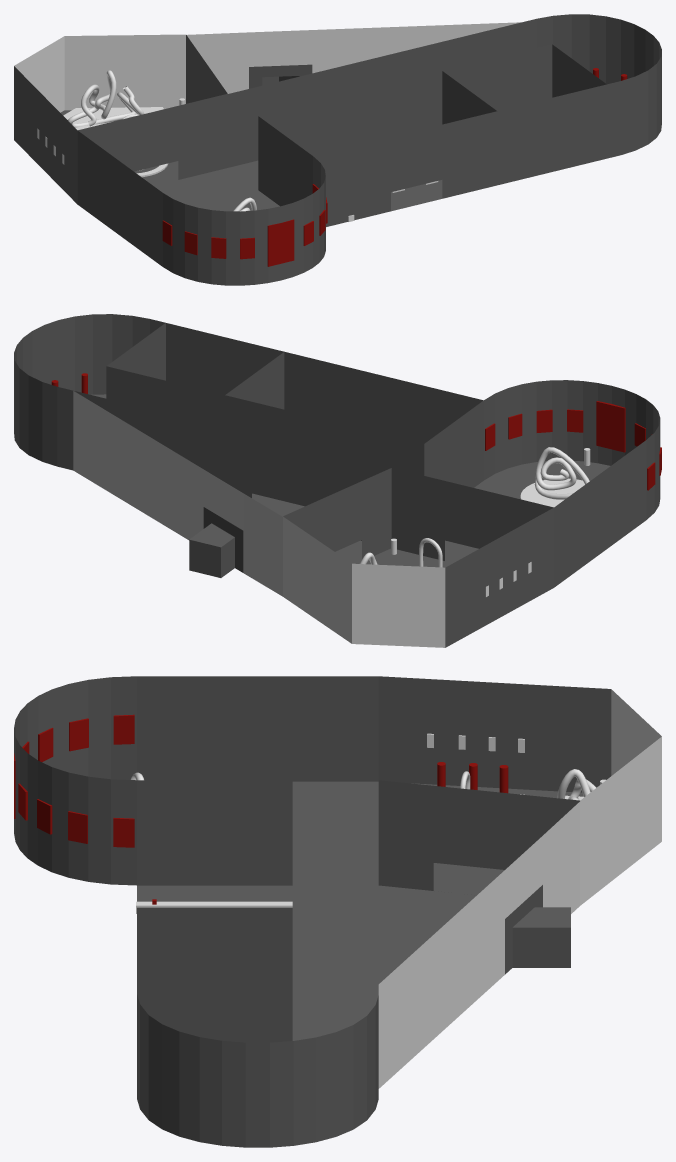
Rendered from room layout reference WITH FIXED NORMALS AND NO DOORS.fbx.
3 renders of one model, top to bottom at view 1: azimuth 30°, elevation 25°; view 2: azimuth 150°, elevation 25°; view 3: azimuth 270°, elevation 25°, orthographic. The views are drawn at different scales.
Visible parts, largest first — view 1: Cafe + Gift Shop Walls, EH2 Walls, EH1 Walls, Lobby Walls, EH3 Walls, Window, Lobby Window, EH2 Floor, Funky Sculpt, BIG EH2 Painting, Cafe Floor, Funky Sculpt Base (+2 smaller); view 2: Cafe + Gift Shop Walls, EH1 Walls, EH2 Walls, Lobby Window, Lobby Walls, Window, EH3 Walls, EH2 Floor, EH2 Centerpiece, BIG EH2 Painting, EH1 Floor, EH2 Centerpiece Base (+1 smaller); view 3: EH2 Walls, EH1 Walls, EH3 Walls, Cafe + Gift Shop Walls, Lobby Window, Hall Floor, Window, EH2 Floor, Lobby Floor, Lobby Walls, Cafe Floor, EH1 Floor (+2 smaller).
Boxes of the visible parts, left/top/right/bottom form: Cafe + Gift Shop Walls: left=258, top=44, right=606, bottom=226; EH2 Walls: left=77, top=116, right=325, bottom=285; EH1 Walls: left=14, top=35, right=227, bottom=204; Lobby Walls: left=227, top=22, right=521, bottom=167; EH3 Walls: left=522, top=14, right=661, bottom=158; Window: left=14, top=34, right=185, bottom=112; Lobby Window: left=187, top=22, right=520, bottom=93; EH2 Floor: left=154, top=168, right=279, bottom=211; Funky Sculpt: left=68, top=70, right=144, bottom=127; BIG EH2 Painting: left=267, top=219, right=294, bottom=266; Cafe Floor: left=391, top=180, right=442, bottom=211; Funky Sculpt Base: left=63, top=107, right=163, bottom=130; Cafe + Gift Shop Walls: left=106, top=323, right=483, bottom=475; EH1 Walls: left=283, top=468, right=553, bottom=647; EH2 Walls: left=424, top=380, right=660, bottom=587; Lobby Window: left=73, top=391, right=282, bottom=596; Lobby Walls: left=74, top=391, right=390, bottom=577; Window: left=283, top=516, right=445, bottom=647; EH3 Walls: left=14, top=314, right=165, bottom=470; EH2 Floor: left=445, top=461, right=610, bottom=562; EH2 Centerpiece: left=534, top=447, right=589, bottom=499; BIG EH2 Painting: left=596, top=401, right=625, bottom=452; EH1 Floor: left=357, top=548, right=452, bottom=567; EH2 Centerpiece Base: left=520, top=478, right=584, bottom=507; EH2 Walls: left=14, top=676, right=378, bottom=885; EH1 Walls: left=378, top=676, right=611, bottom=890; EH3 Walls: left=137, top=994, right=378, bottom=1147; Cafe + Gift Shop Walls: left=137, top=907, right=292, bottom=1042; Lobby Window: left=378, top=801, right=580, bottom=1088; Hall Floor: left=292, top=885, right=378, bottom=1040; Window: left=580, top=689, right=661, bottom=905; EH2 Floor: left=292, top=781, right=378, bottom=885; Lobby Floor: left=378, top=885, right=476, bottom=983; Lobby Walls: left=505, top=885, right=570, bottom=974; Cafe Floor: left=137, top=885, right=292, bottom=901; EH1 Floor: left=411, top=783, right=583, bottom=895.
Bounding box in the file's own units: 40126 × 5616 × 29951.
